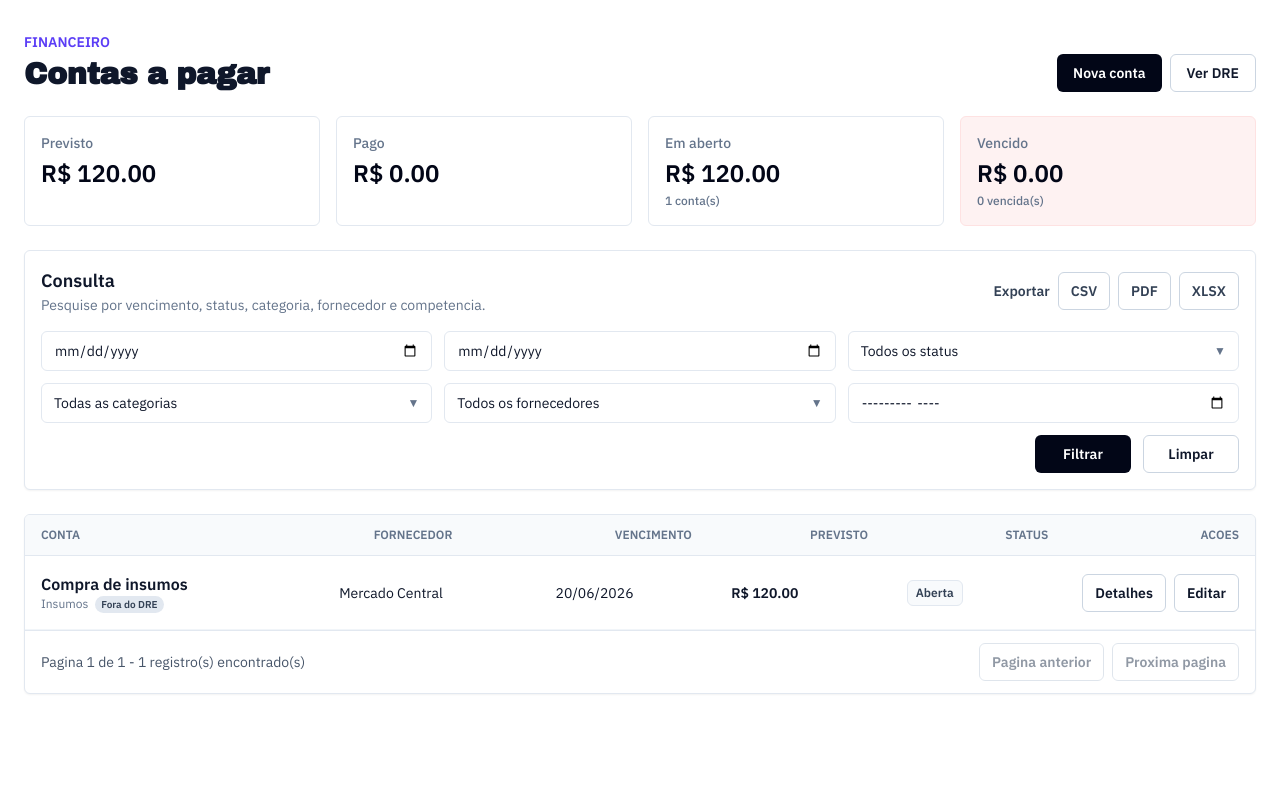
Test case: PayablesClient filters › requests reusable async export with current filters
Click the button "Todas as categorias ▼" at x=116, y=403, box 41,383 -> 432,423
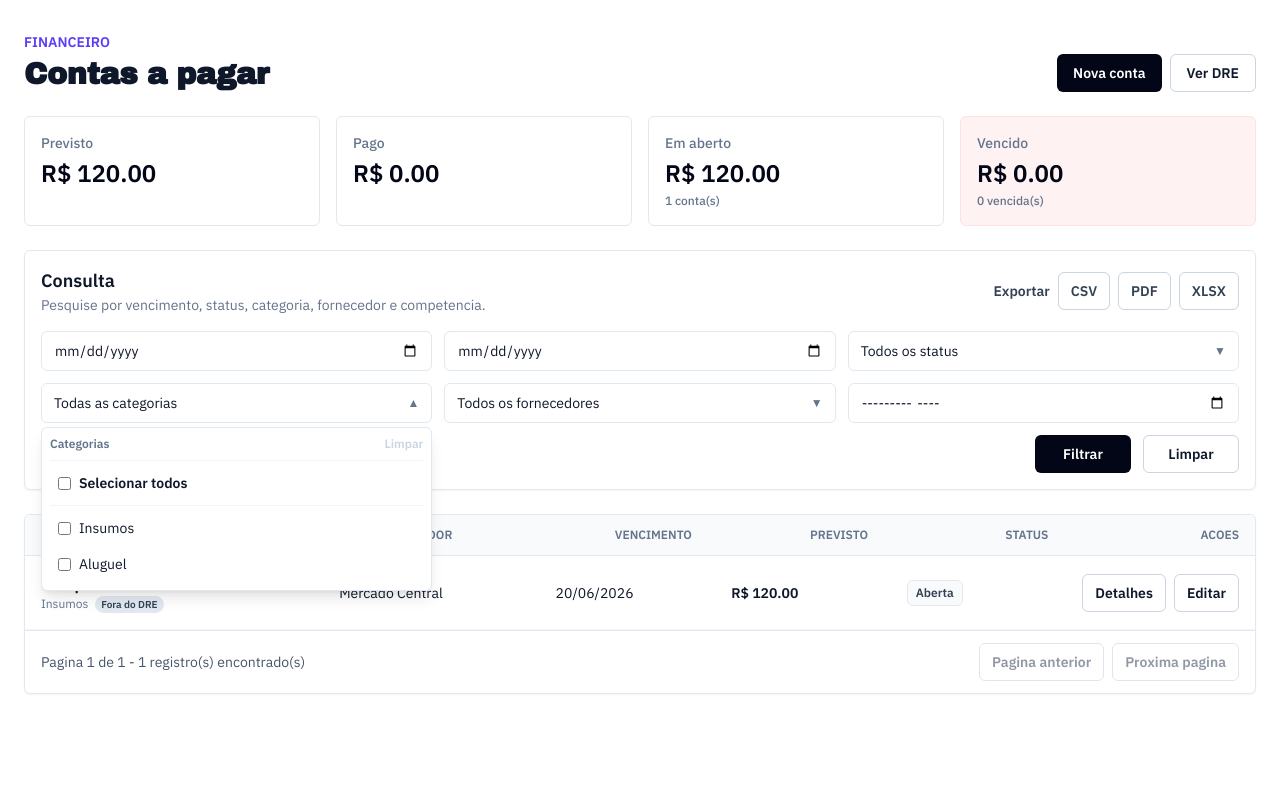
Click the checkbox labelled "Insumos" at x=64, y=528, box 58,522 -> 71,534
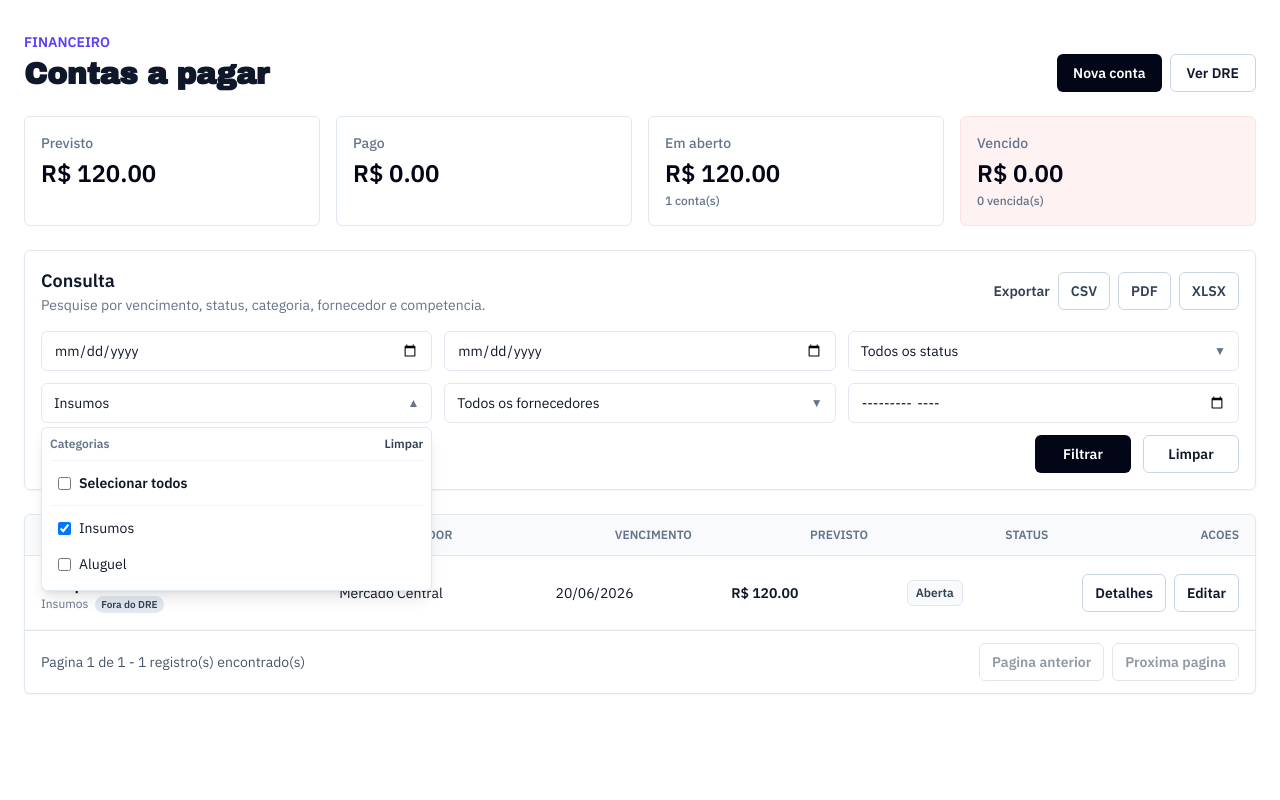
Click the button "CSV" at x=1084, y=291, box 1058,272 -> 1110,310
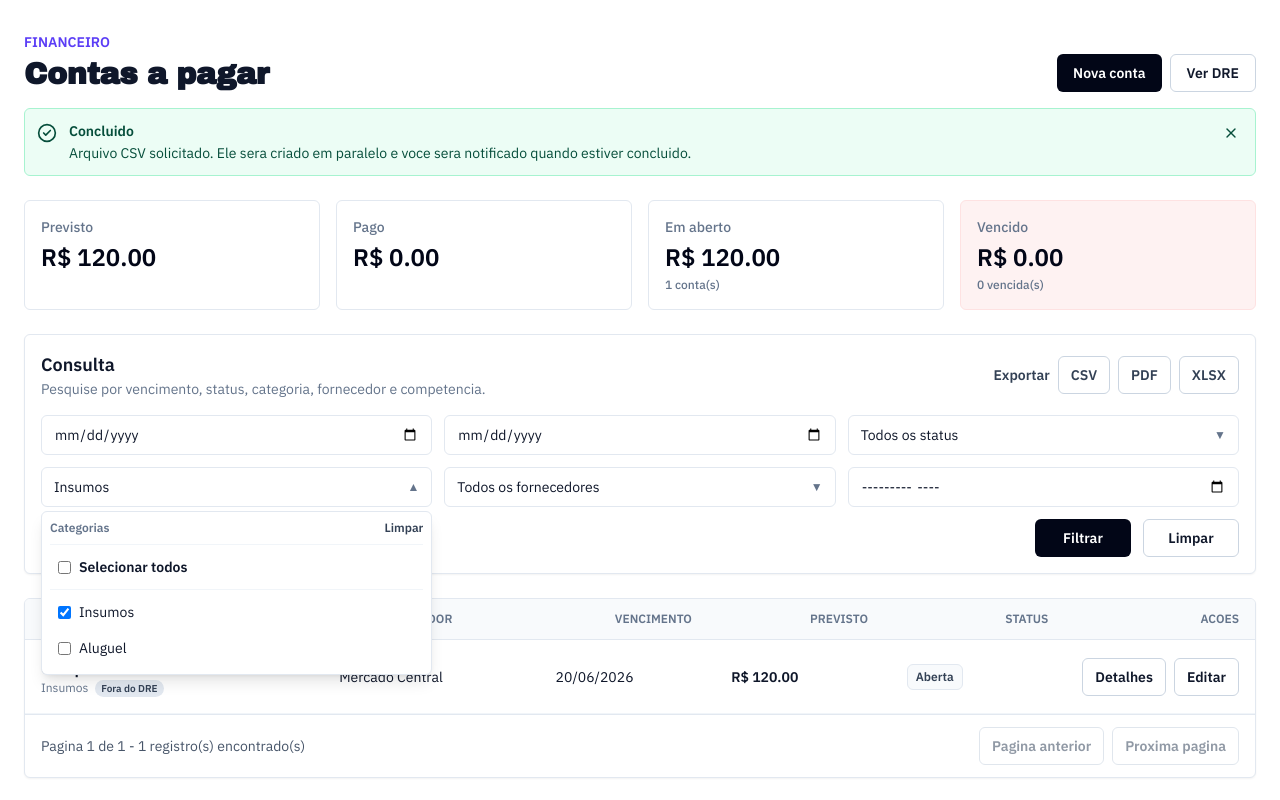
Check: the button "Filtrar" is enabled, box 1035,519 -> 1131,557
Check: the text "Arquivo CSV solicitado. Ele sera criado em paralelo e voce sera notificado quando estiver concluido." is shown, box 69,144 -> 691,162
